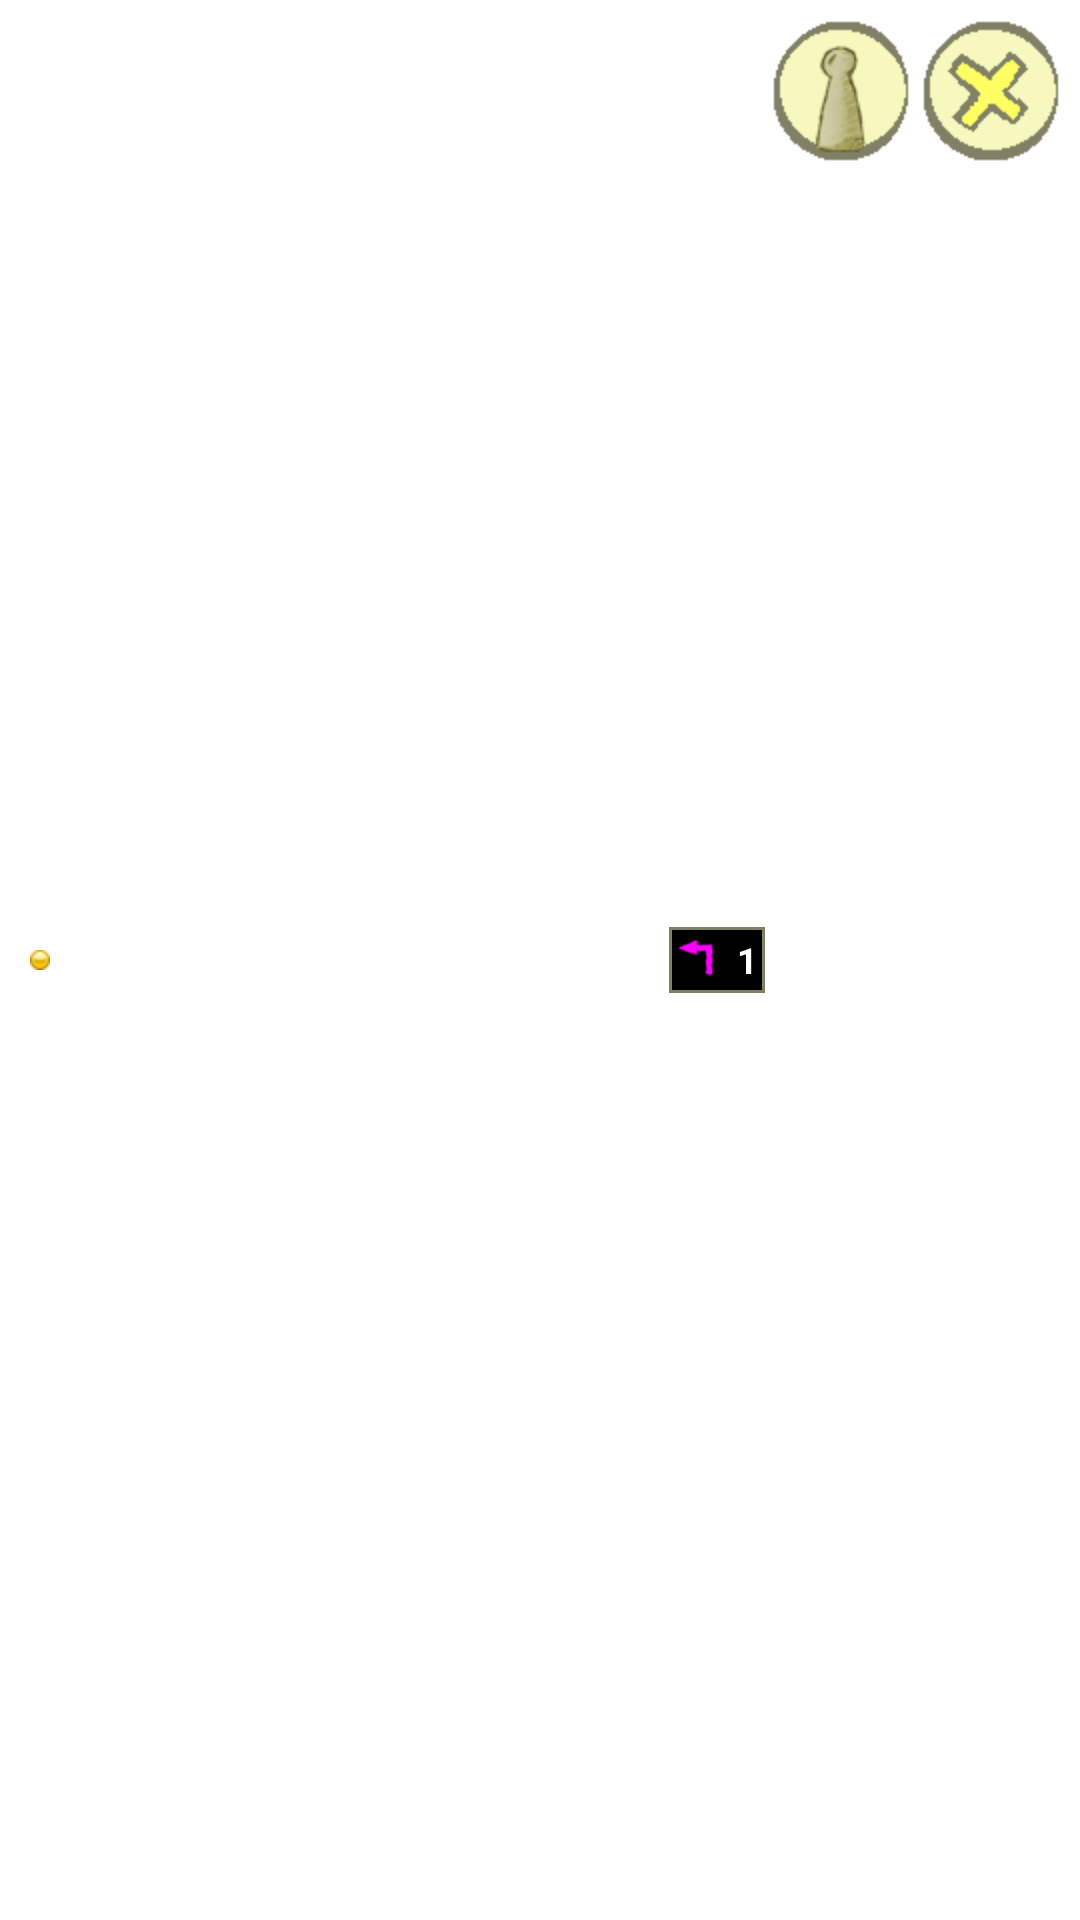

Icons on this 1080 x 1920 Android screen, each with the point to tap as [x,y]:
mov left: [702,960]
